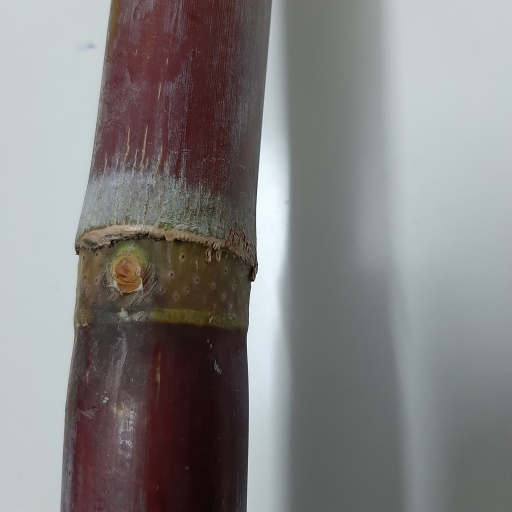Damage_Bud: (112, 257, 141, 293)
